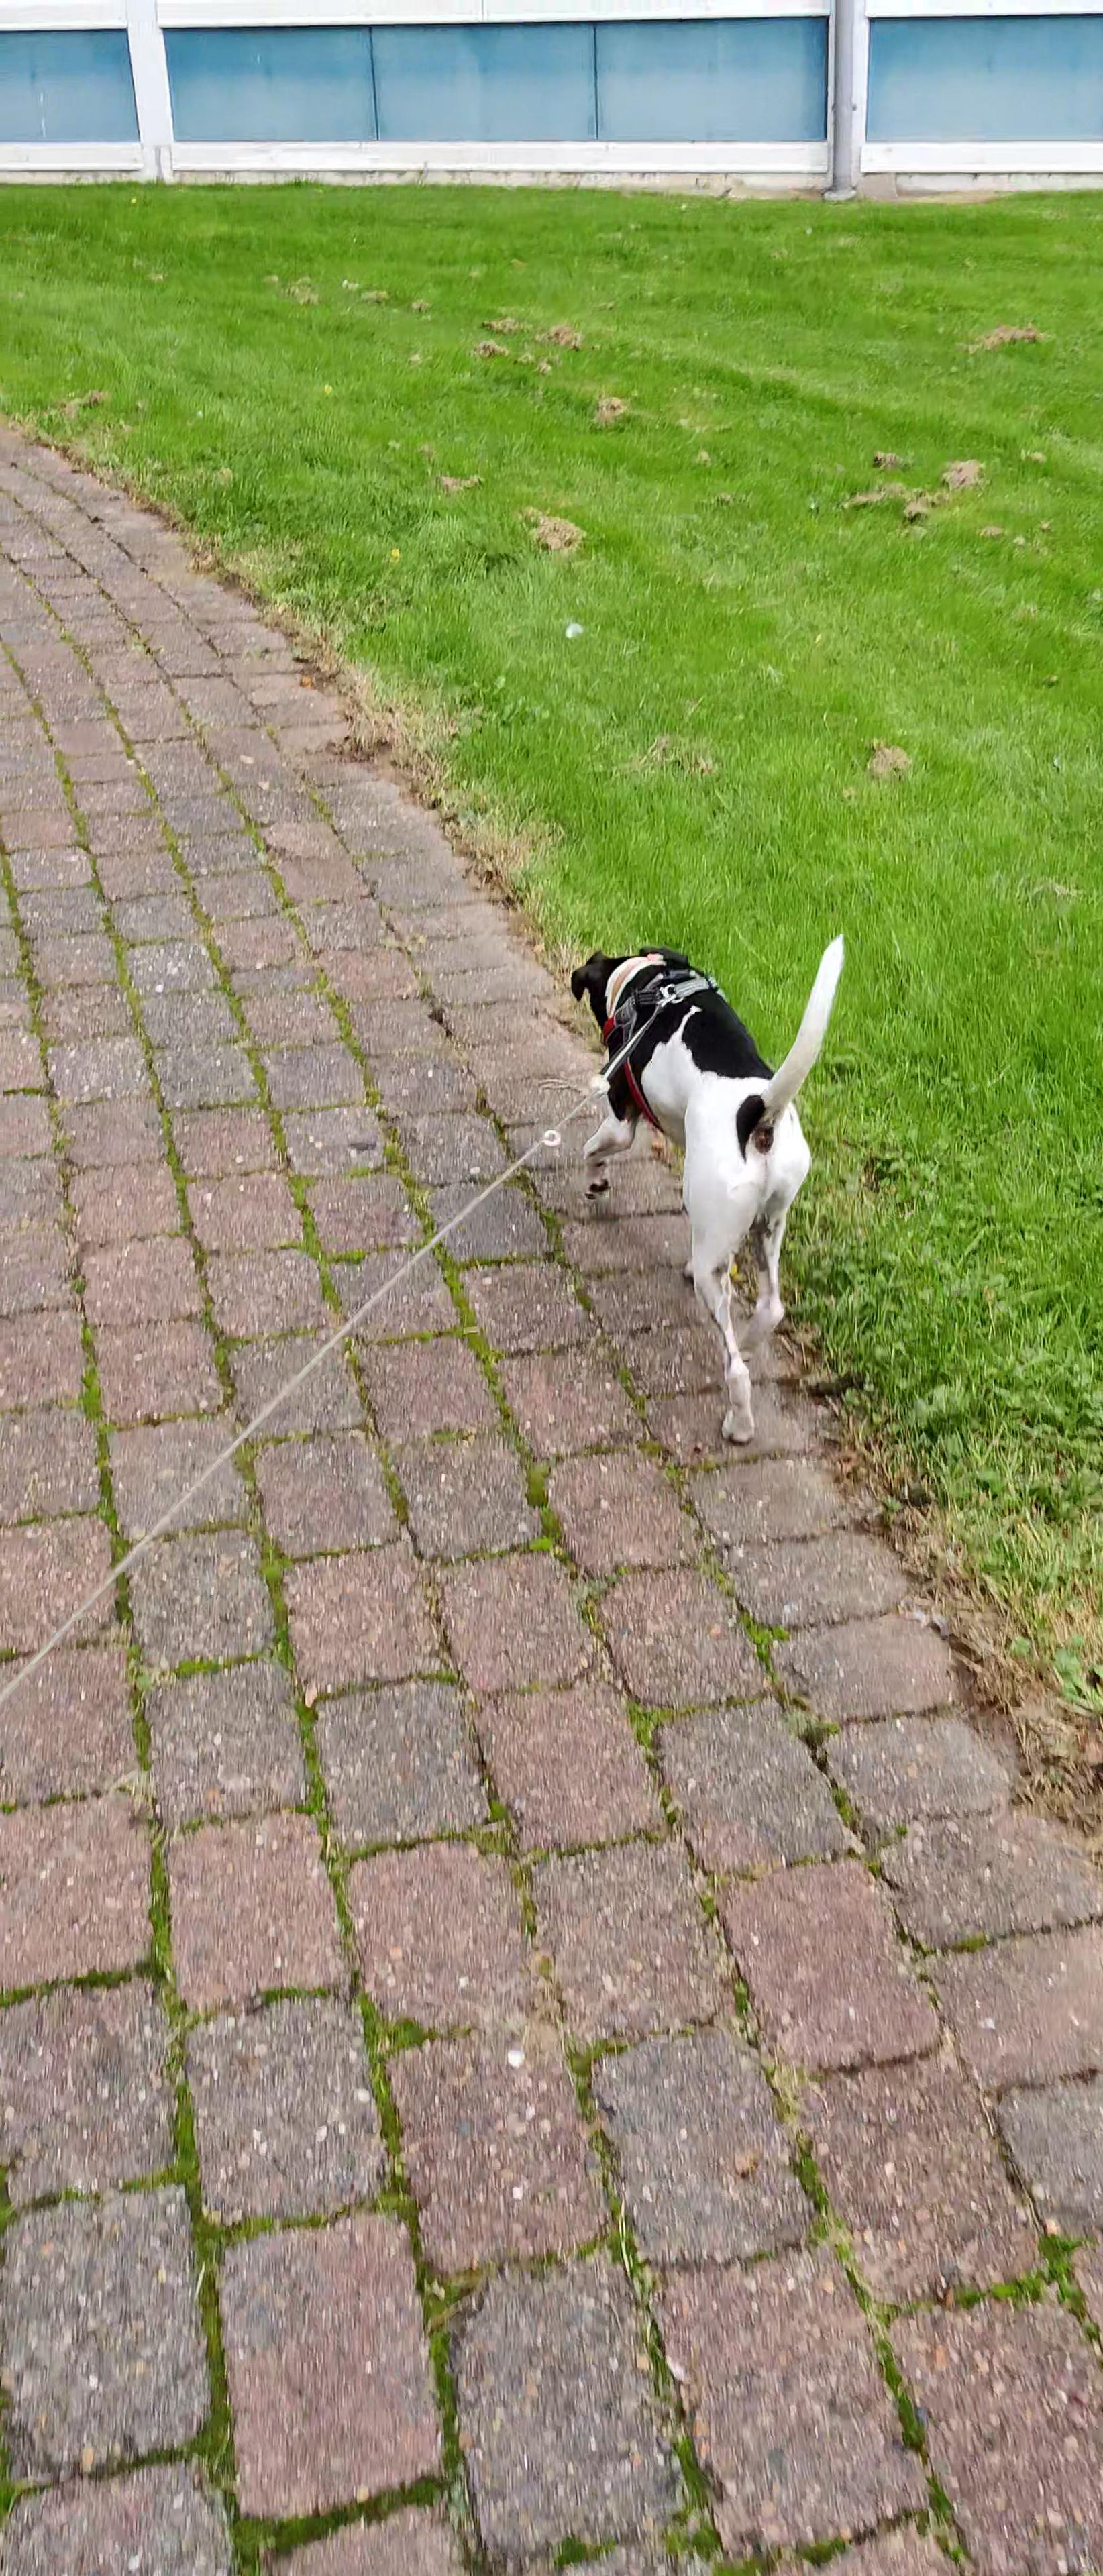Dog: (541, 877, 860, 1464)
